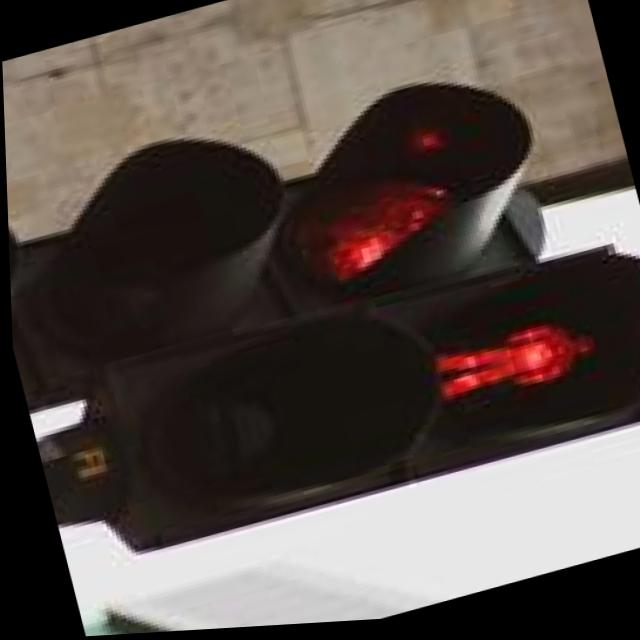red_light: (257, 61, 525, 337)
